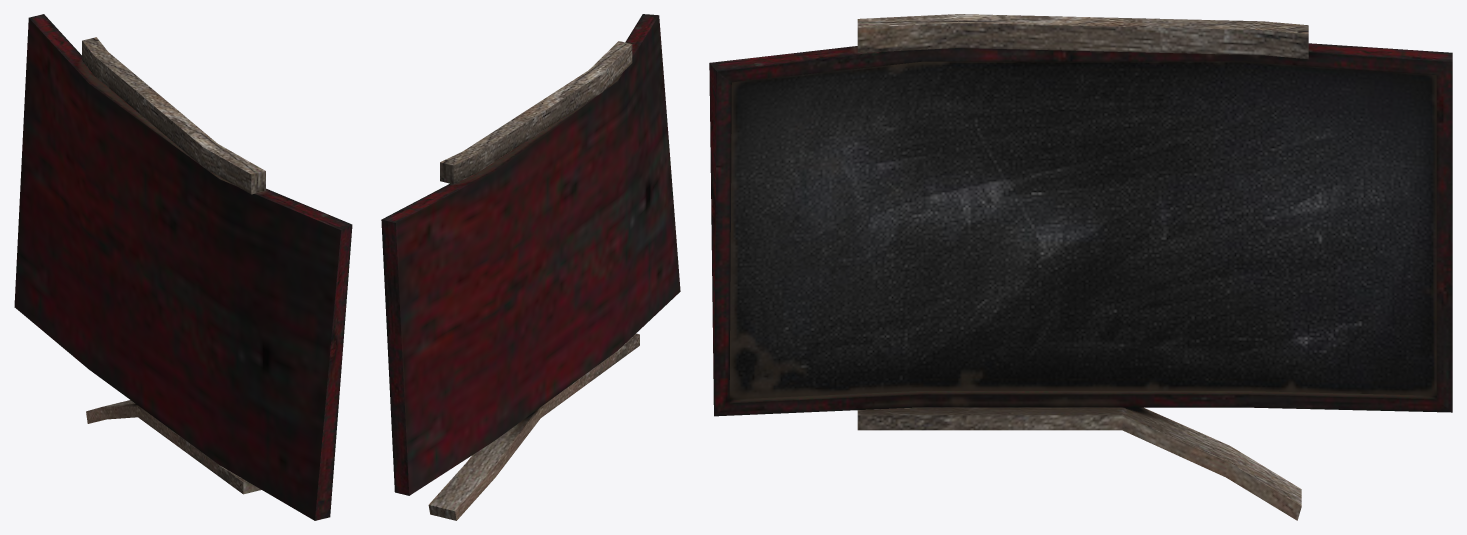
Rendered from BlackBoardBroken.FBX.
3 renders of one model, left to right at view 1: azimuth 30°, elevation 25°; view 2: azimuth 150°, elevation 25°; view 3: azimuth 270°, elevation 25°, orthographic. The views are drawn at different scales.
Visible parts, largest first — view 1: BlackBoardBroken; view 2: BlackBoardBroken; view 3: BlackBoardBroken.
Boxes of the visible parts, box(x1,y1,x2,y2) form: BlackBoardBroken: box(14, 14, 352, 520); BlackBoardBroken: box(381, 14, 680, 520); BlackBoardBroken: box(709, 14, 1452, 520).
Size of the model in its own units: 22.7 by 155 by 219.
